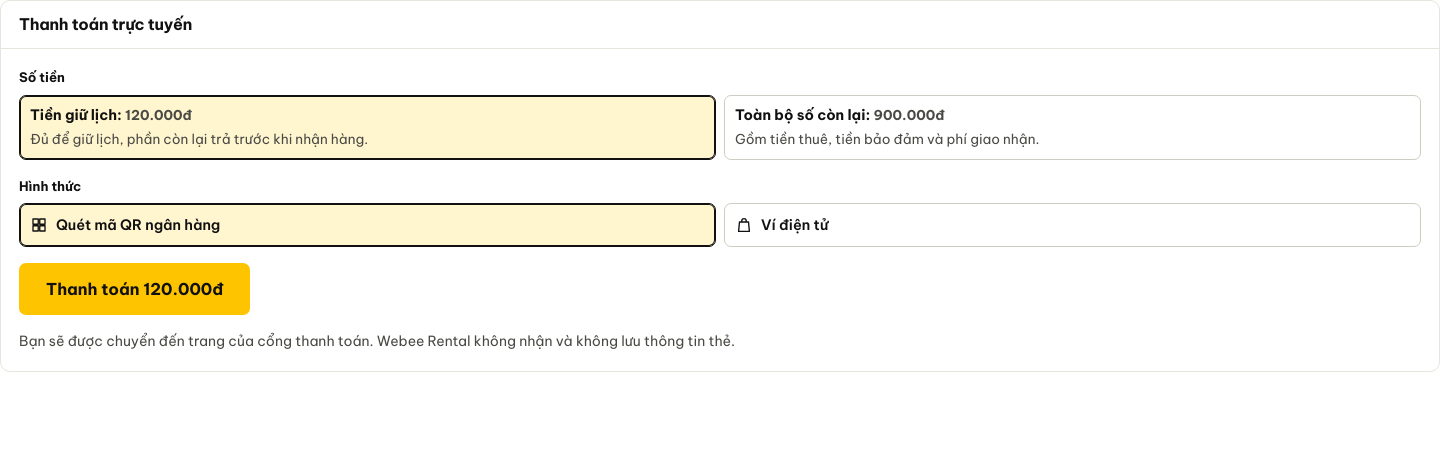
Test case: PayOnline › shows only the amounts the backend offers and sends no amount back
Click the radio button labelled "Toàn bộ số còn lại" at (800, 115), box [724, 94, 1421, 160]
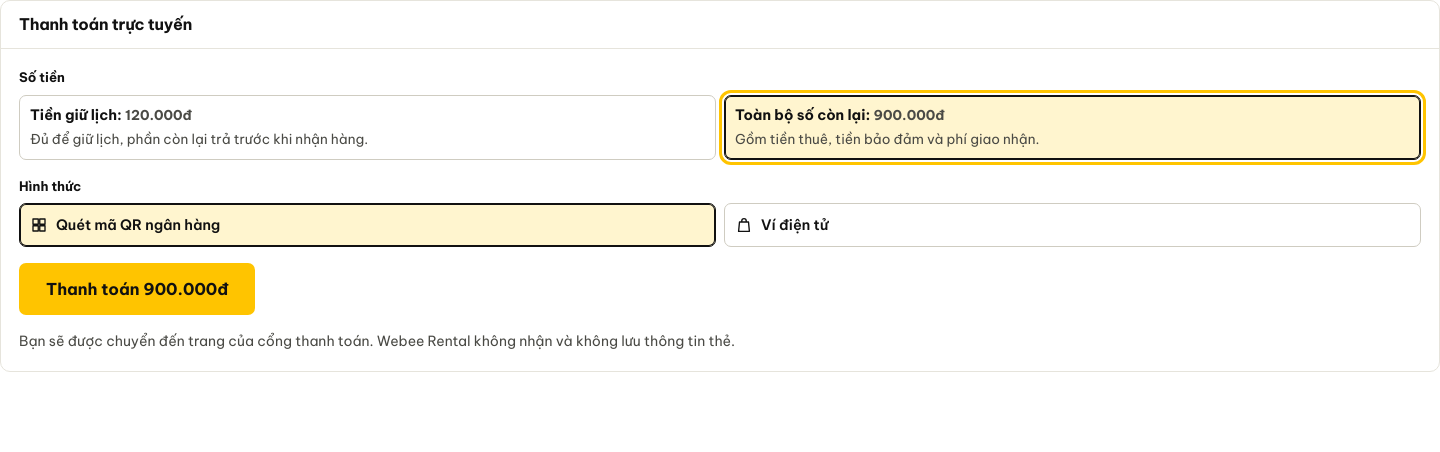
Click the button "Thanh toán 900.000đ" at (137, 289), box [19, 263, 255, 315]
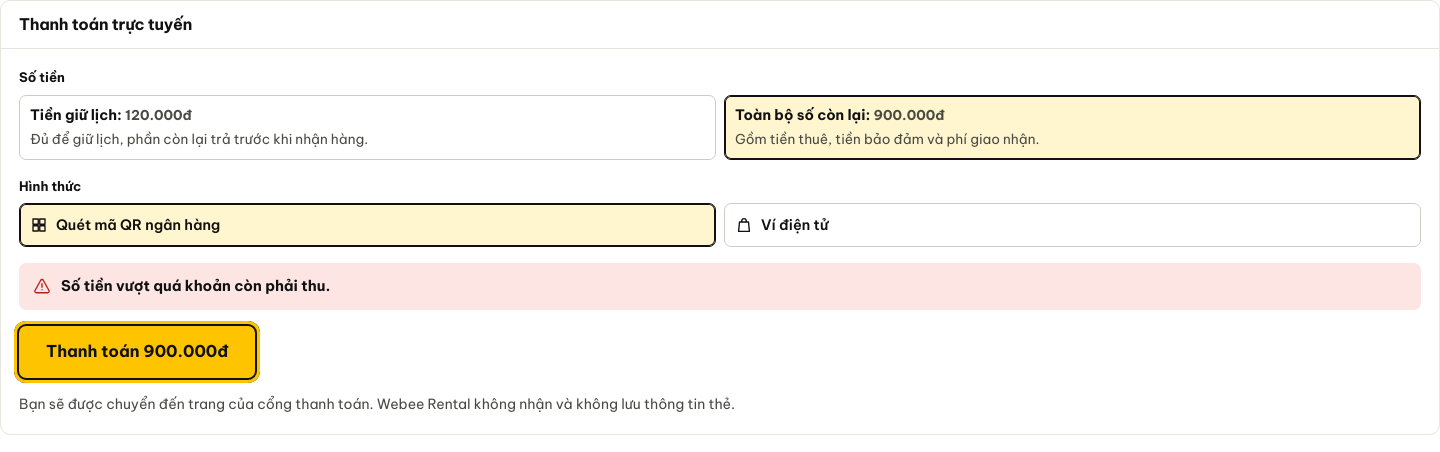
Now the text "Số tiền vượt quá khoản còn phải thu." is shown, box [61, 275, 330, 298]
